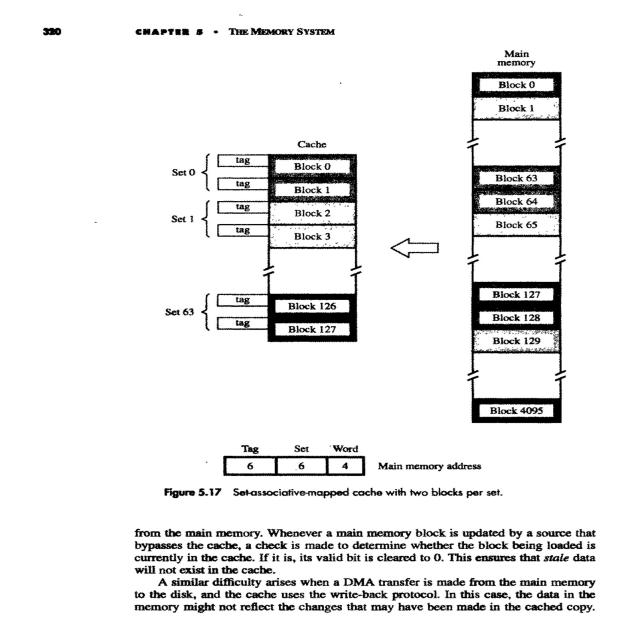diagram: (140, 49, 624, 508)
